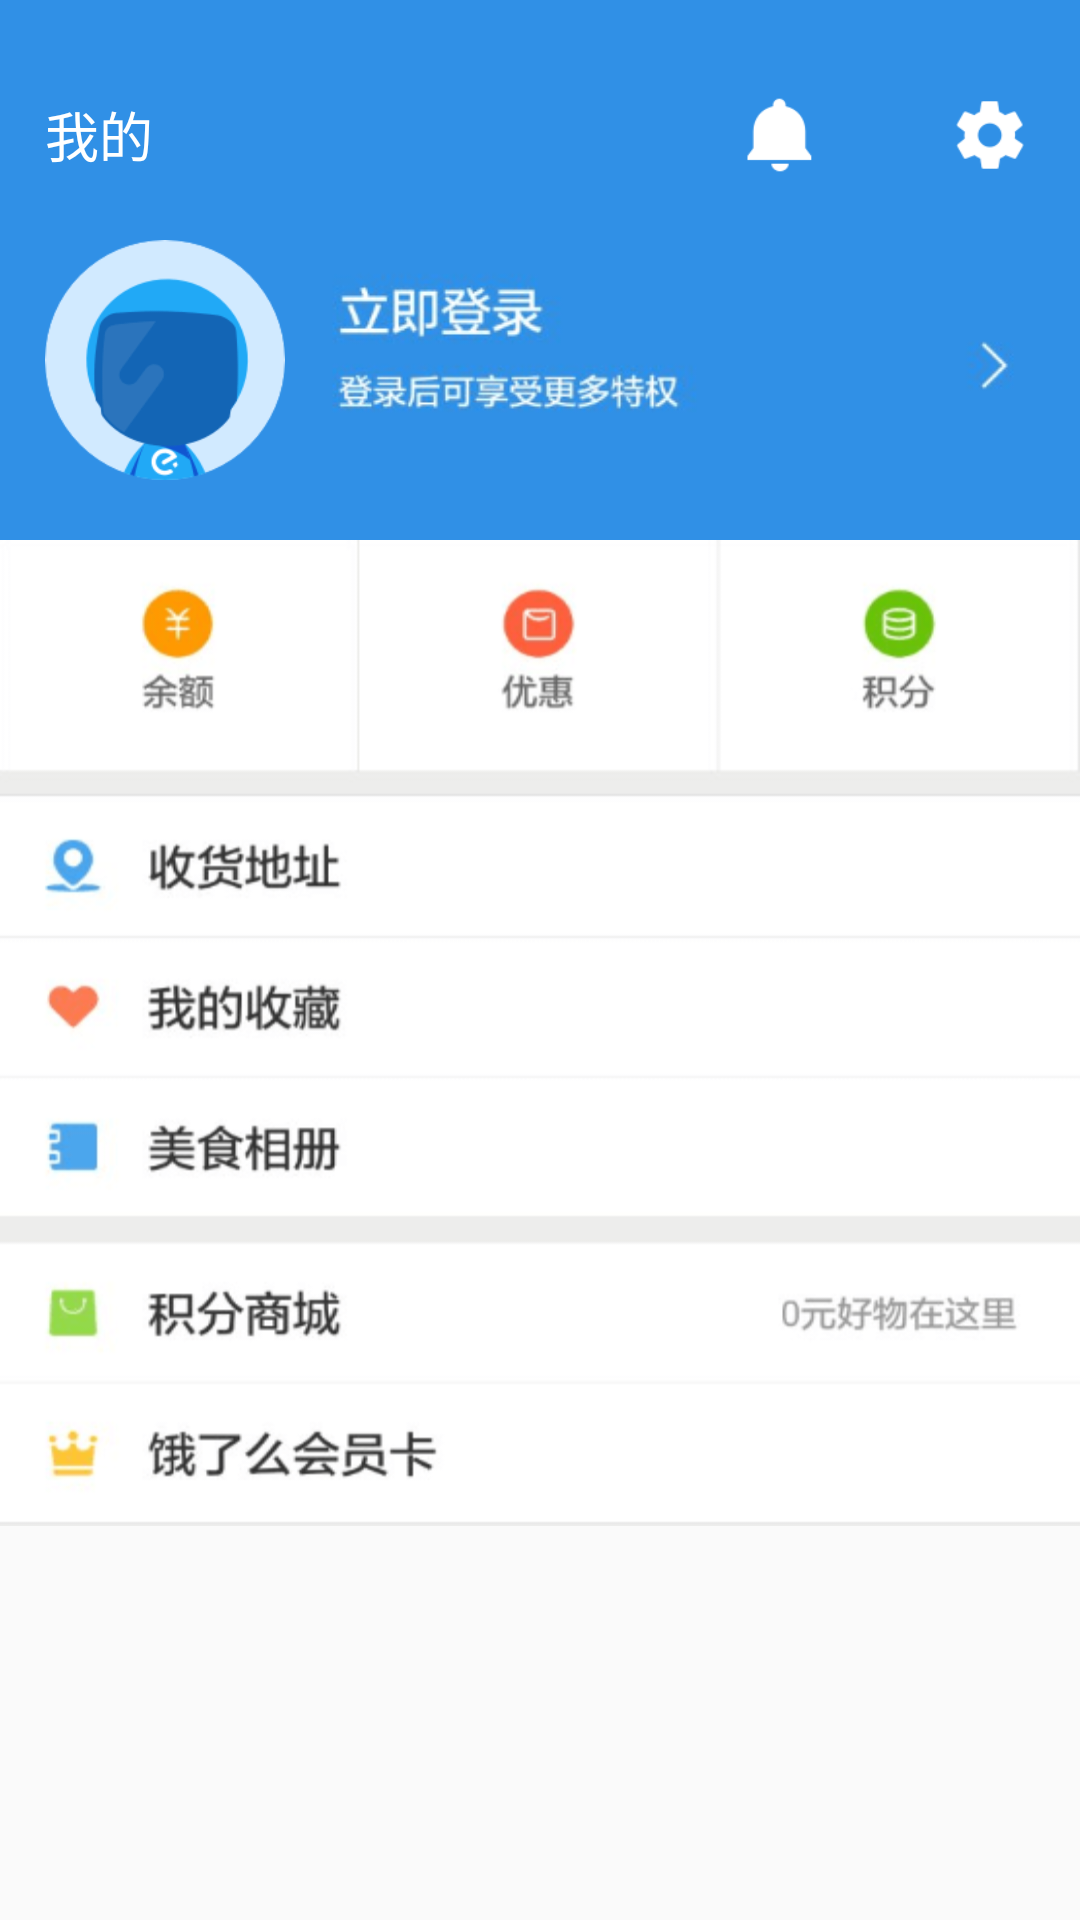

Point at icon controls on the screen. Image size 1080w x 1920h, points as (x,y).
user center notice: (779,135)
user center setting: (990,135)
